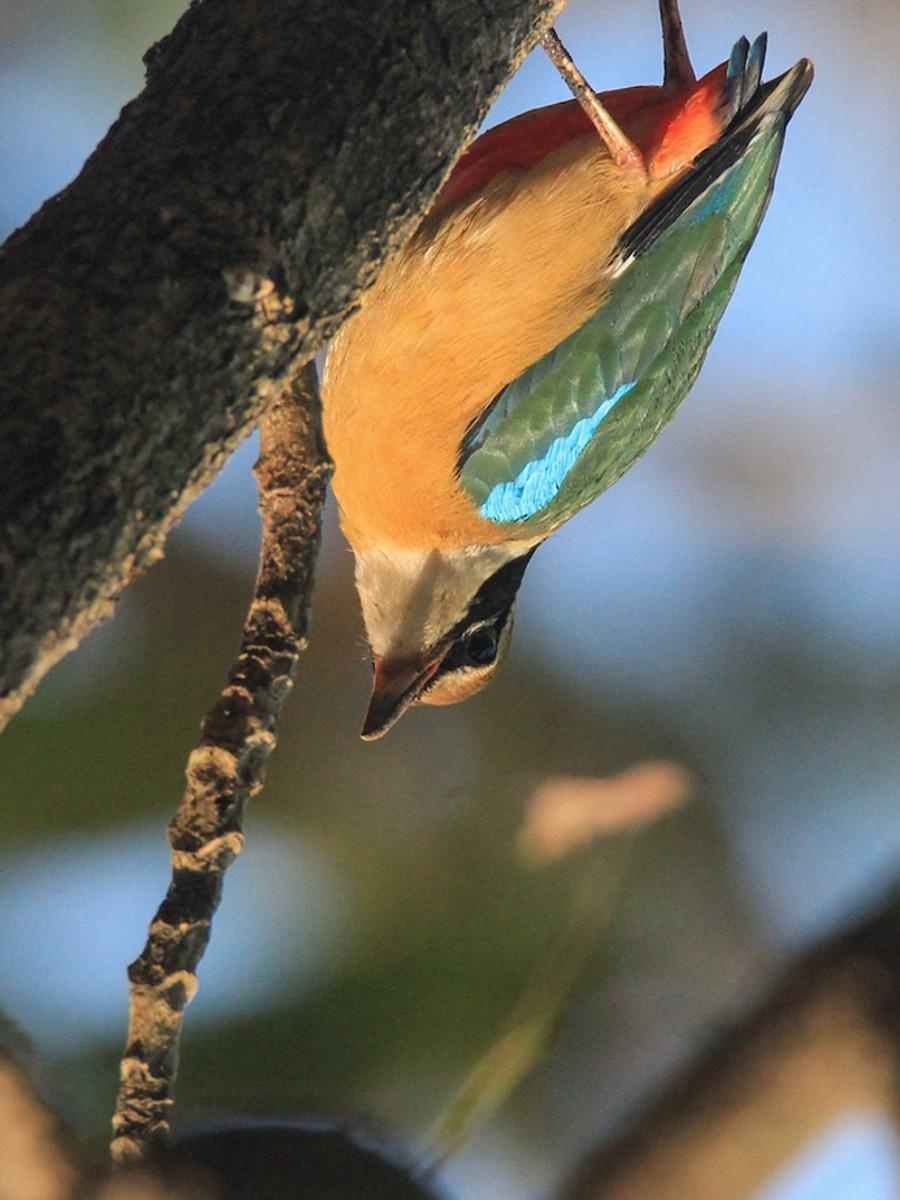pitta: (291, 73, 811, 751)
